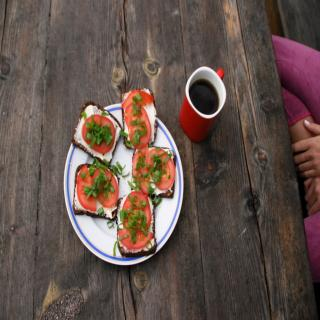tomato: (81, 115, 115, 153), (124, 102, 151, 146), (148, 149, 174, 190), (122, 191, 150, 228), (92, 169, 119, 206), (76, 164, 97, 211), (119, 225, 153, 246)
